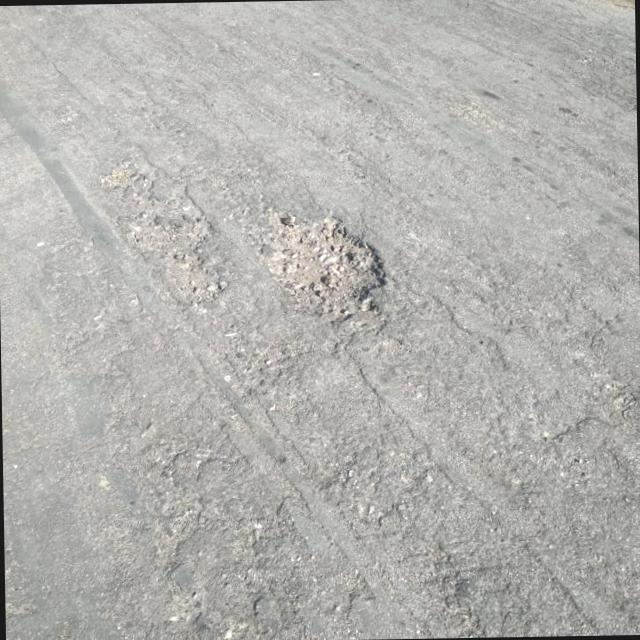Lubang: (101, 162, 227, 303), (255, 210, 383, 319)
